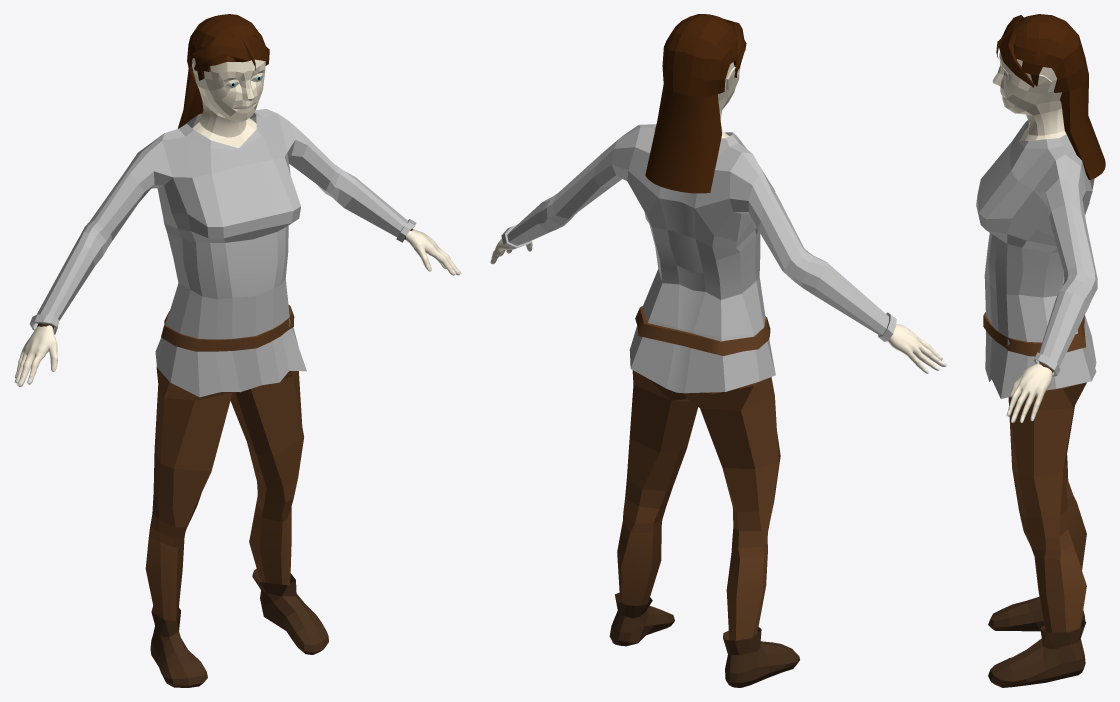
File: PNJFEmme.fbx
The picture shows the model from 3 angles, left to right: view 1: azimuth 30°, elevation 25°; view 2: azimuth 150°, elevation 25°; view 3: azimuth 270°, elevation 25°; orthographic projection.
Visible parts, largest first — view 1: polySurface5; view 2: polySurface5; view 3: polySurface5.
Boxes of the visible parts, x1,y1,x2,y2 form: polySurface5: (14, 14, 461, 687); polySurface5: (490, 14, 947, 687); polySurface5: (976, 14, 1105, 687).
Bounding box in the file's own units: 139 × 190 × 35.07.
